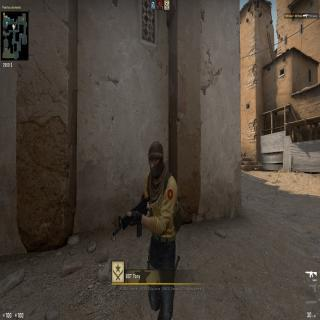T-Head: (147, 140, 165, 178)
